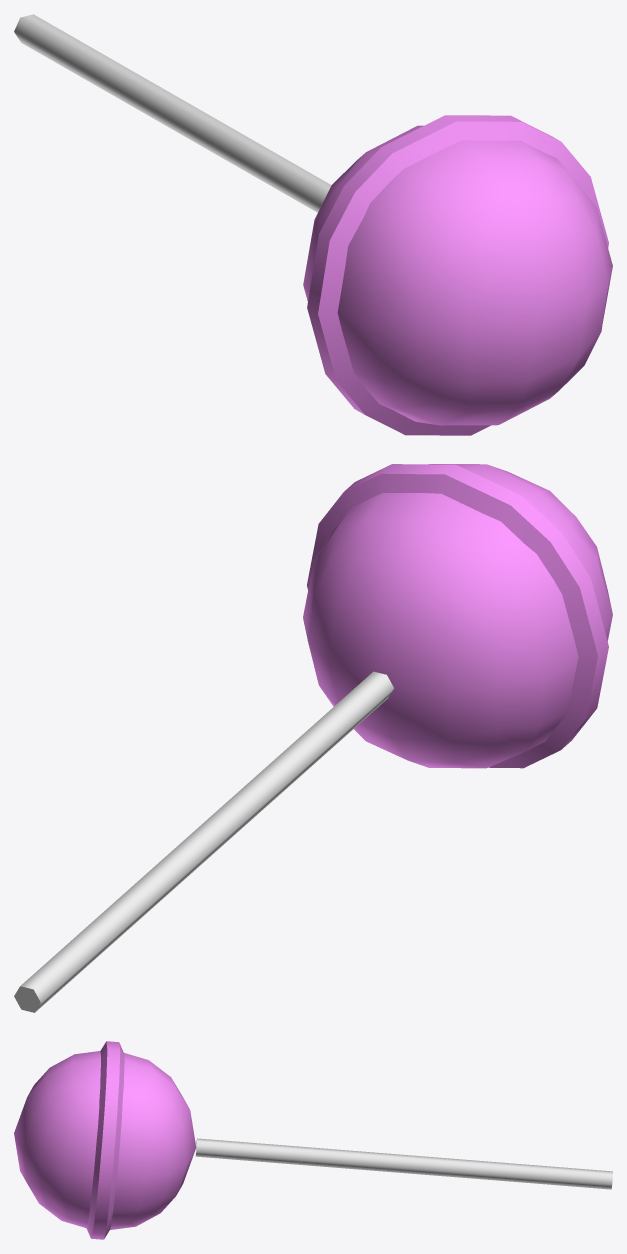
File: lollipop.fbx
The picture shows the model from 3 angles, top to bottom: view 1: azimuth 30°, elevation 25°; view 2: azimuth 150°, elevation 25°; view 3: azimuth 270°, elevation 25°; orthographic projection. The views are drawn at different scales.
Visible parts, largest first — view 1: lollipop; view 2: lollipop; view 3: lollipop.
Part boxes in pixels (x1=…): lollipop: x1=14, y1=14, x2=612, y2=435; lollipop: x1=14, y1=464, x2=612, y2=1012; lollipop: x1=14, y1=1041, x2=612, y2=1239.
Size of the model in its own units: 0.0245 by 0.0246 by 0.0741.
1 material, 1 textured.
